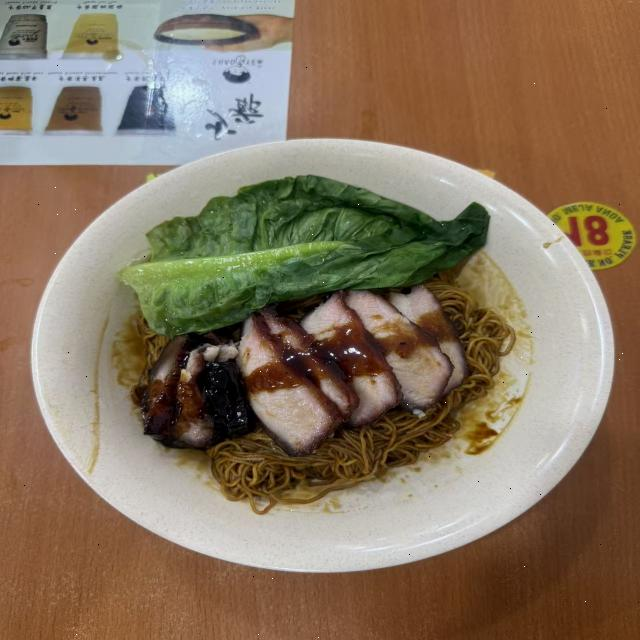Wantan Mee: (57, 153, 565, 536)
